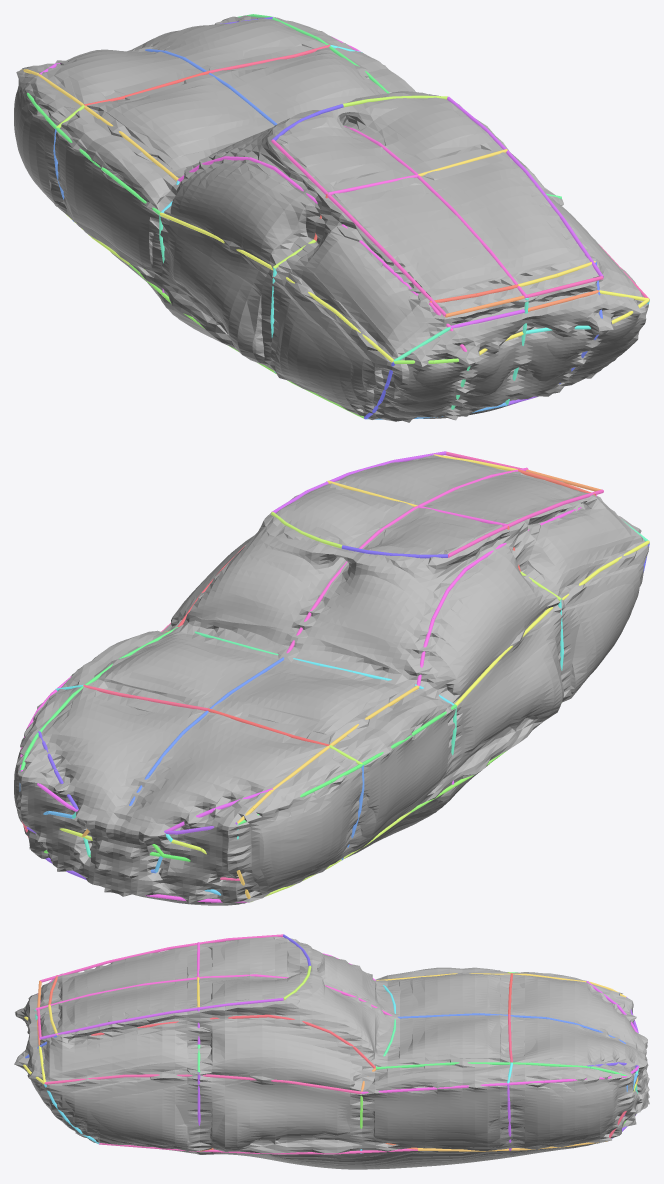
File: ils_car2.gltf
3 renders of one model, top to bottom at view 1: azimuth 30°, elevation 25°; view 2: azimuth 150°, elevation 25°; view 3: azimuth 270°, elevation 25°, orthographic. The views are drawn at different scales.
Size of the model in its own units: 0.4023 by 0.2981 by 0.9215.
